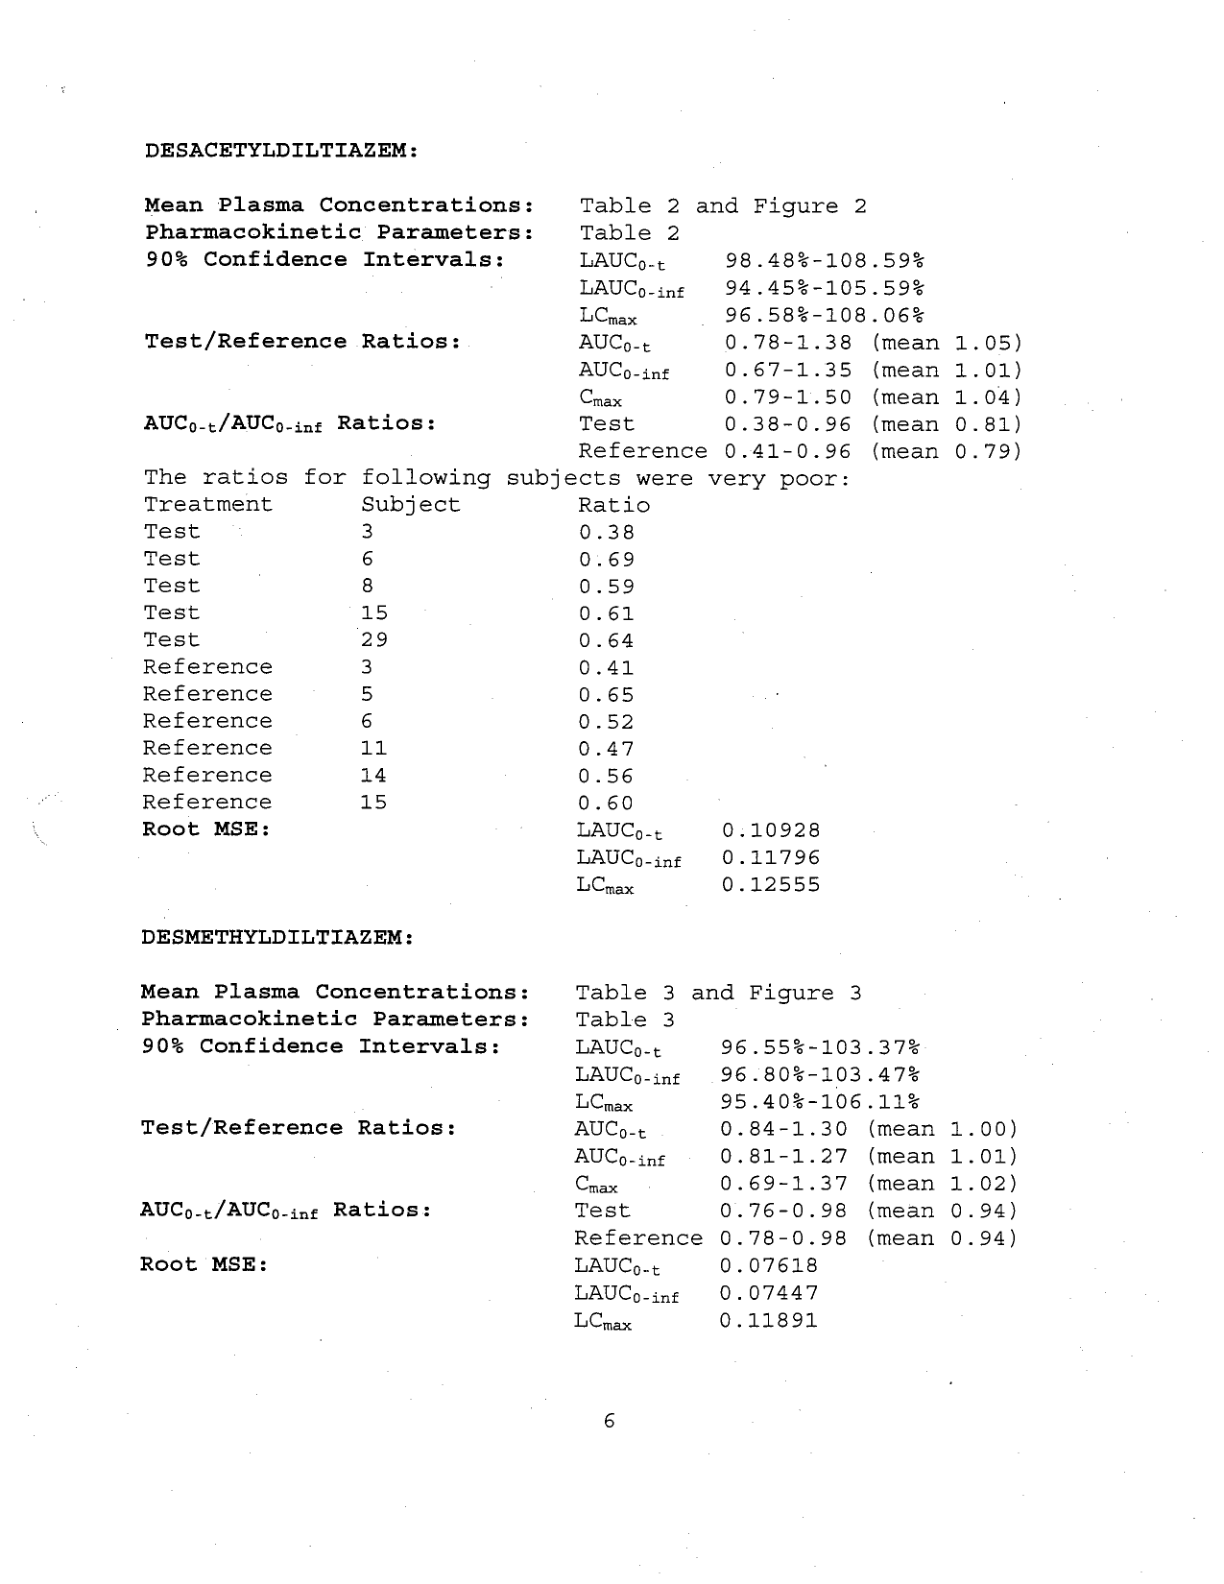nolines: (136, 980, 1020, 1336), (139, 491, 825, 896), (139, 190, 1026, 465)
